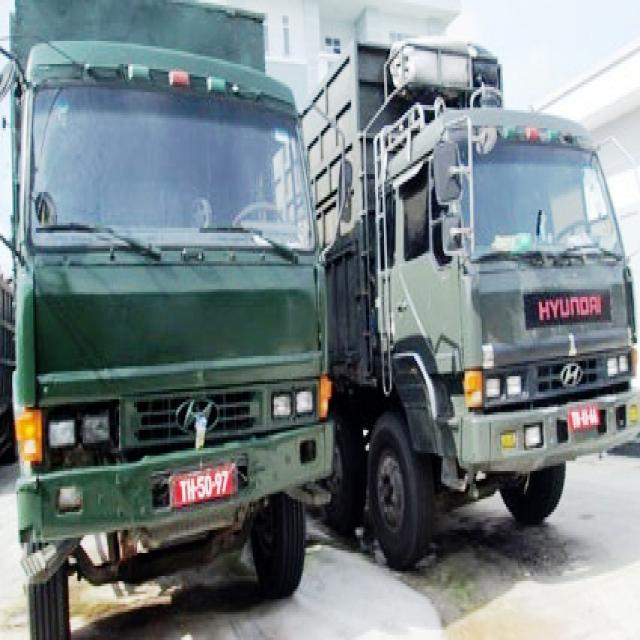license_plate: (173, 464, 234, 511), (568, 402, 602, 434)
